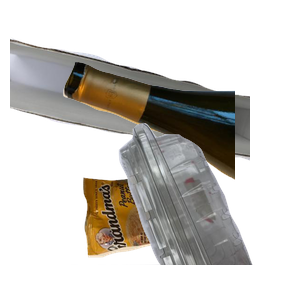cardboard: (10, 35, 250, 188)
glass: (60, 59, 300, 231)
plastic: (71, 120, 300, 300)
trash: (81, 168, 261, 300)
